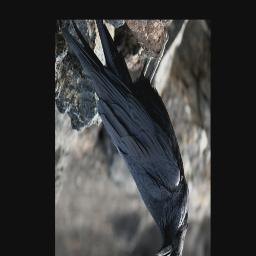Crow: (57, 20, 190, 256)
